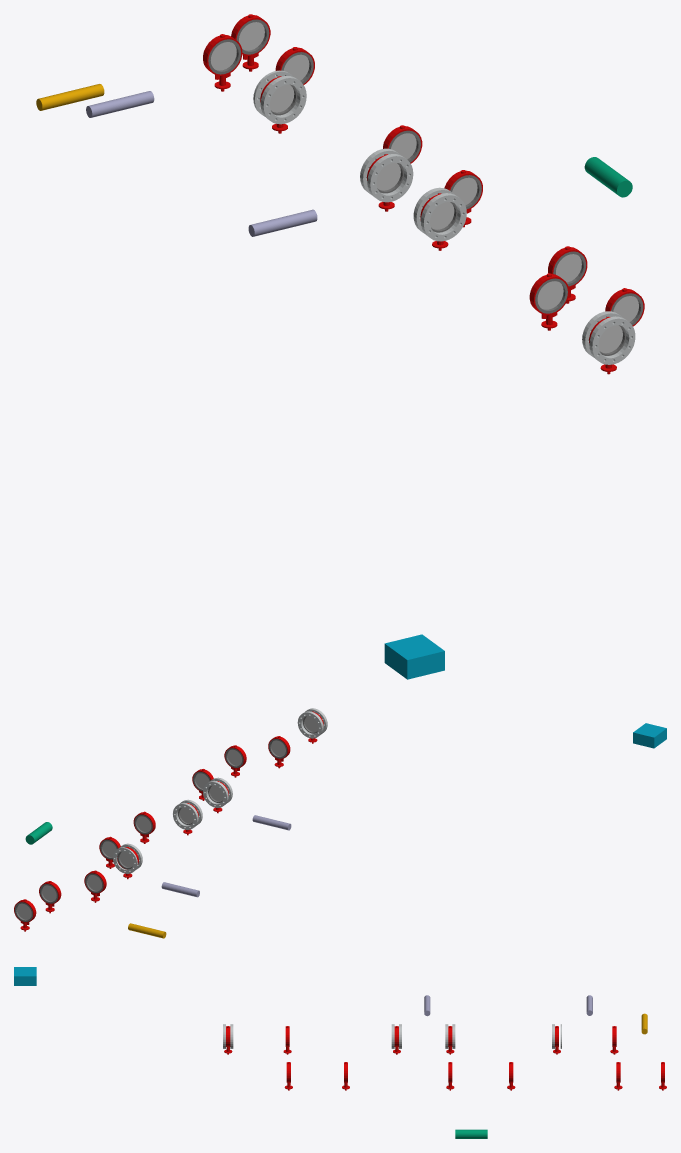
The picture shows the model from 3 angles, top to bottom: view 1: azimuth 30°, elevation 25°; view 2: azimuth 150°, elevation 25°; view 3: azimuth 270°, elevation 25°; orthographic projection. The views are drawn at different scales.
Size of the model in its own units: 7.11 by 1.09 by 12.06.
